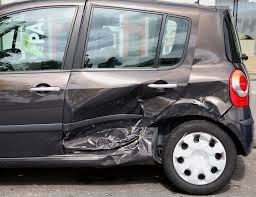Dent: (62, 81, 162, 164), (164, 81, 245, 128)
